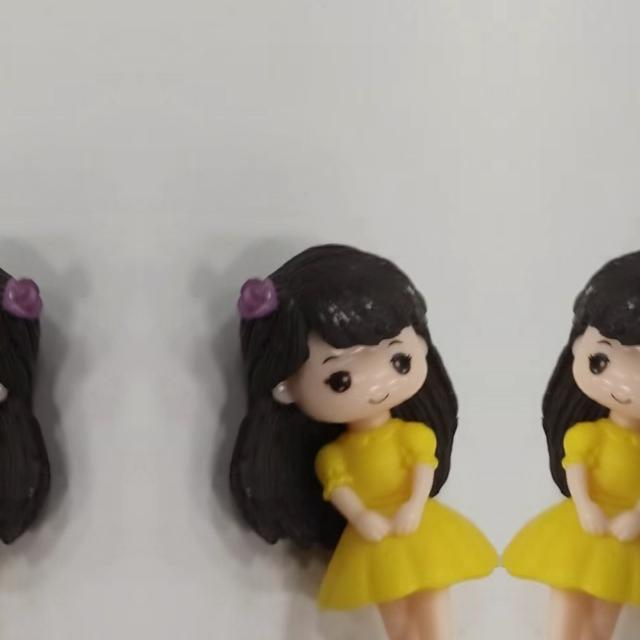woman dress: (314, 406, 498, 640), (501, 406, 640, 639)
woman head: (216, 245, 454, 423), (545, 245, 640, 423), (0, 245, 64, 423)
